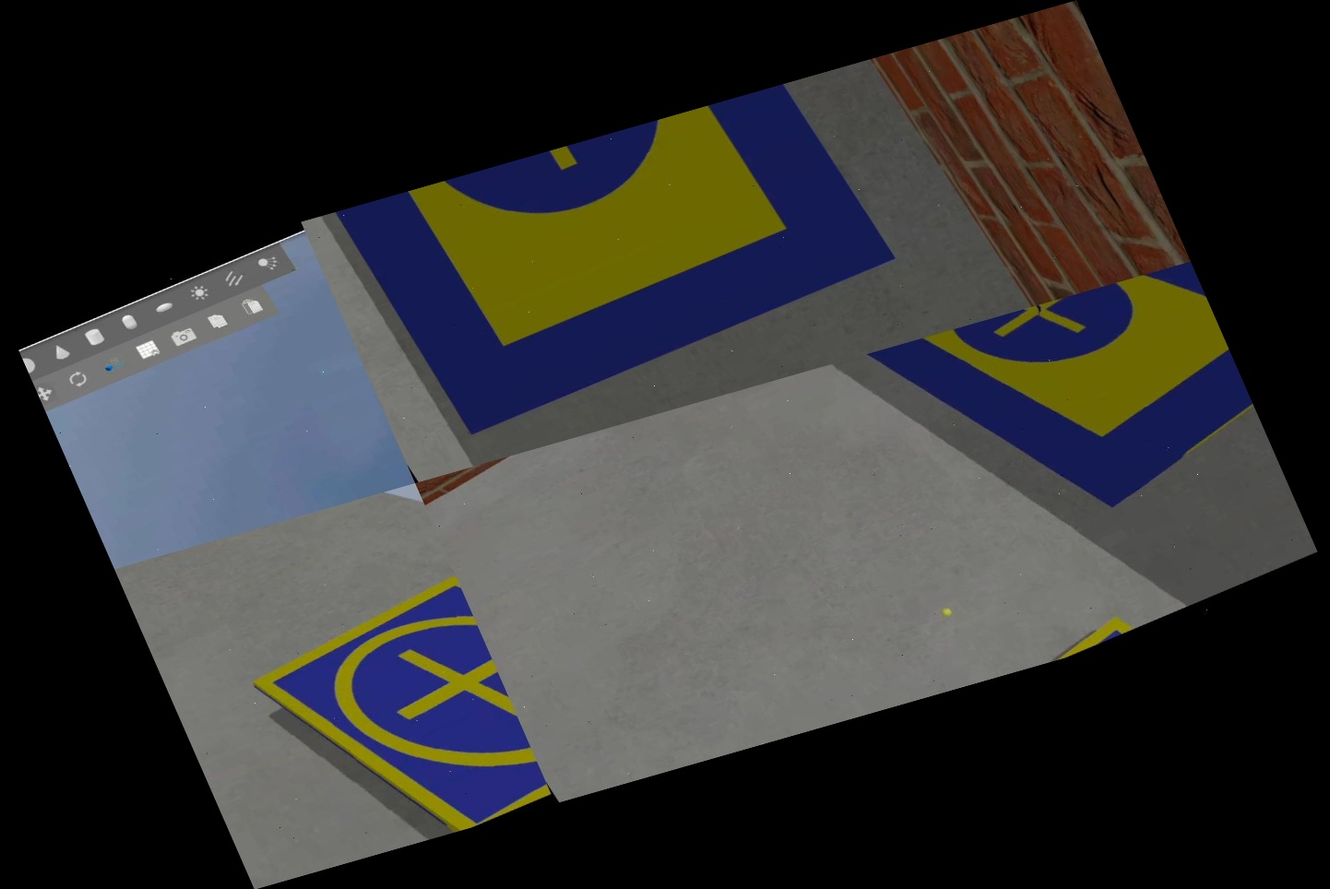large_base: (305, 75, 920, 458), (815, 261, 1285, 585)
small_base: (223, 558, 555, 867)
